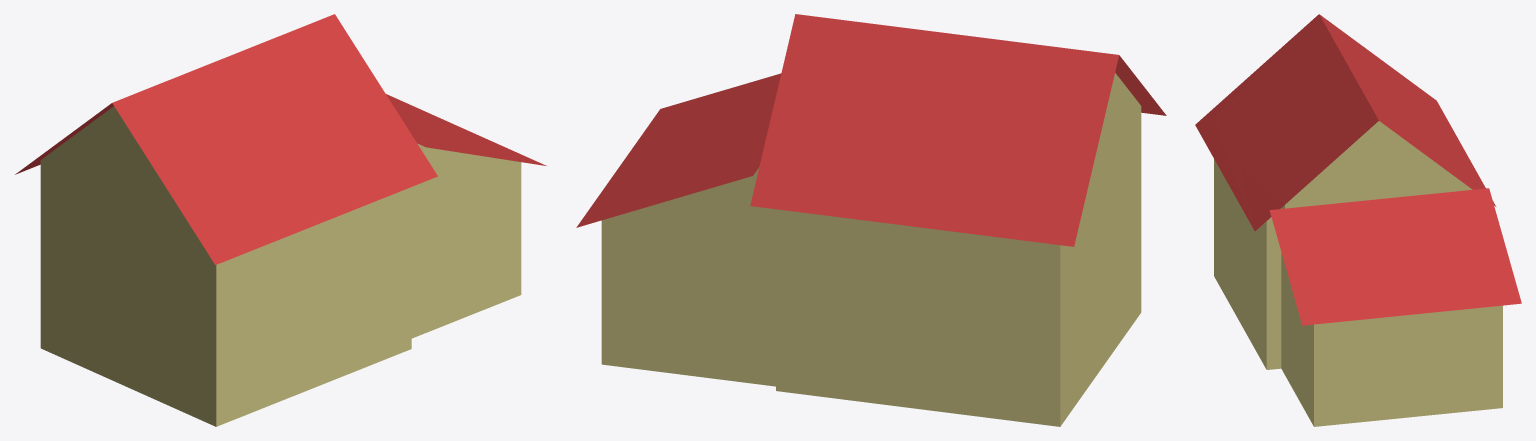
3 renders of one model, left to right at view 1: azimuth 30°, elevation 25°; view 2: azimuth 150°, elevation 25°; view 3: azimuth 270°, elevation 25°, orthographic. The views are drawn at different scales.
Size of the model in its own units: 21.04 by 15.47 by 12.8.
